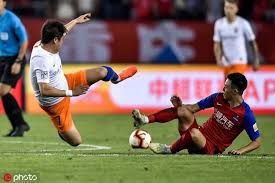fall: (22, 9, 142, 150)
